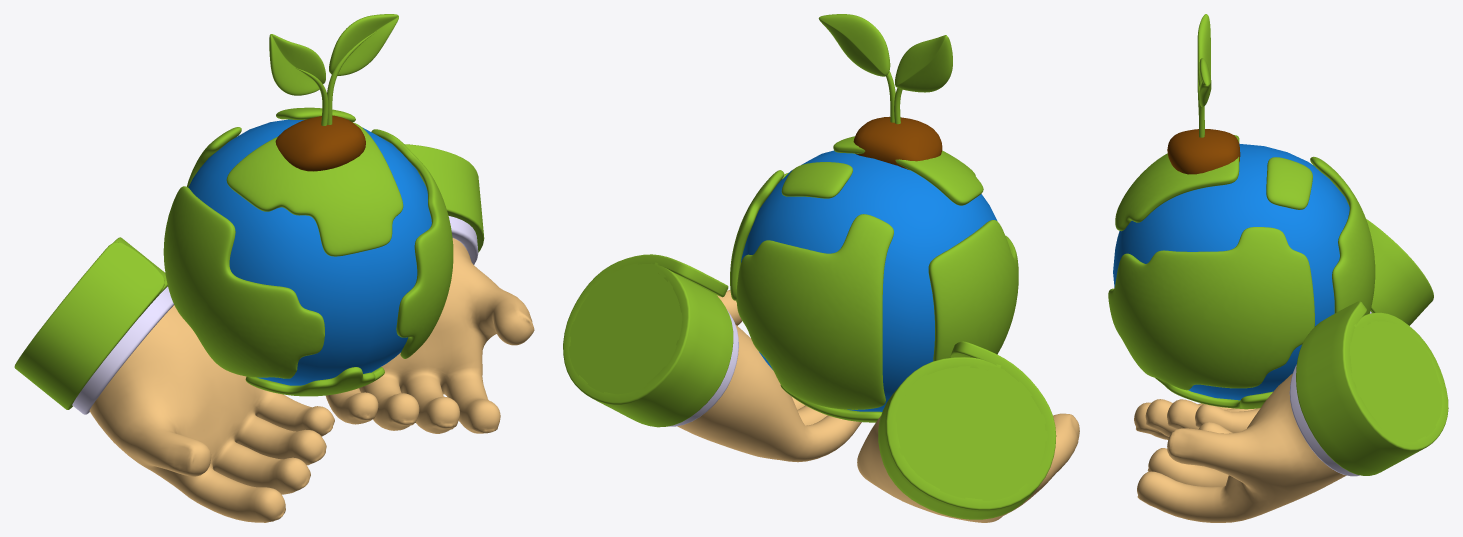
The model's file is SaveEarth4.gltf.
The picture shows the model from 3 angles, left to right: view 1: azimuth 30°, elevation 25°; view 2: azimuth 150°, elevation 25°; view 3: azimuth 270°, elevation 25°; orthographic projection. The views are drawn at different scales.
Visible parts, largest first — view 1: Cube.010, Hand Right Main, Cube.009, Hand Left Main, Outer Sleeve Right, Cube.011, Outer Sleeve Left, Inner Sleeve Right, Vert.014, Vert.013, Inner Sleeve Left; view 2: Cube.010, Outer Sleeve Right, Outer Sleeve Left, Cube.009, Hand Left Main, Hand Right Main, Cube.011, Vert.013, Vert.014, Inner Sleeve Left; view 3: Cube.010, Outer Sleeve Left, Cube.009, Hand Left Main, Outer Sleeve Right, Hand Right Main, Cube.011, Inner Sleeve Left, Vert.014, Vert.013.
Boxes of the visible parts, bbox=[...] form: Cube.010: bbox=[163, 107, 453, 396]; Hand Right Main: bbox=[89, 305, 334, 522]; Cube.009: bbox=[188, 119, 431, 385]; Hand Left Main: bbox=[326, 238, 534, 433]; Outer Sleeve Right: bbox=[14, 237, 167, 409]; Cube.011: bbox=[275, 115, 365, 171]; Outer Sleeve Left: bbox=[404, 144, 484, 252]; Inner Sleeve Right: bbox=[72, 286, 174, 414]; Vert.014: bbox=[269, 34, 325, 95]; Vert.013: bbox=[329, 14, 398, 75]; Inner Sleeve Left: bbox=[448, 216, 478, 264]; Cube.010: bbox=[730, 136, 1018, 422]; Outer Sleeve Right: bbox=[878, 341, 1056, 519]; Outer Sleeve Left: bbox=[563, 254, 733, 427]; Cube.009: bbox=[741, 150, 997, 411]; Hand Left Main: bbox=[677, 290, 861, 462]; Hand Right Main: bbox=[857, 413, 1079, 522]; Cube.011: bbox=[853, 116, 942, 169]; Vert.013: bbox=[818, 14, 890, 76]; Vert.014: bbox=[895, 35, 952, 92]; Inner Sleeve Left: bbox=[668, 310, 738, 426]; Cube.010: bbox=[1108, 135, 1375, 409]; Outer Sleeve Left: bbox=[1296, 301, 1448, 475]; Cube.009: bbox=[1113, 143, 1349, 400]; Hand Left Main: bbox=[1137, 373, 1346, 522]; Outer Sleeve Right: bbox=[1366, 219, 1433, 325]; Hand Right Main: bbox=[1134, 399, 1260, 439]; Cube.011: bbox=[1167, 129, 1240, 174]; Inner Sleeve Left: bbox=[1289, 364, 1359, 476]; Vert.014: bbox=[1197, 14, 1210, 86]; Vert.013: bbox=[1199, 58, 1211, 106].
Size of the model in its own units: 3.96 by 3.77 by 2.61.
